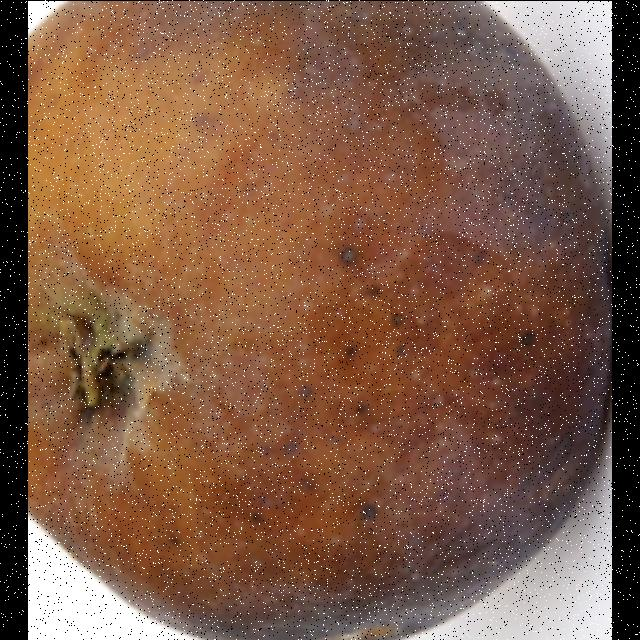Apel Tidak Segar: (28, 0, 612, 640)
